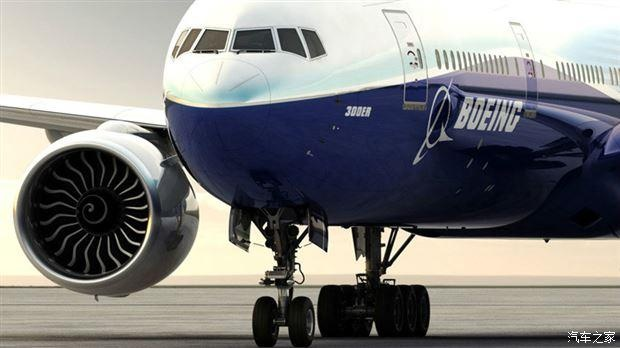airplane: (2, 1, 620, 347)
